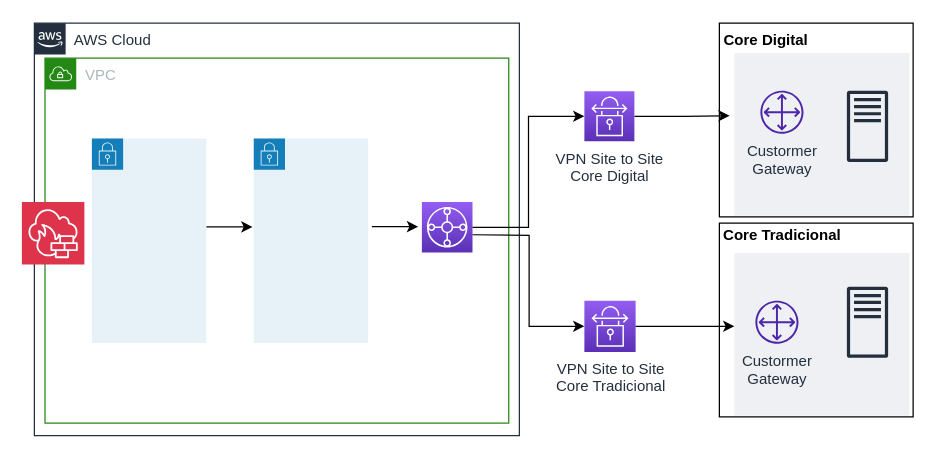
This 935x458 diagram has some shape labels left out. Each missing label, with the centre of its shape:
Subnet Private: the point at 310,240
Subnet Public: the point at 148,240
Transit Gateway: the point at 446,226
